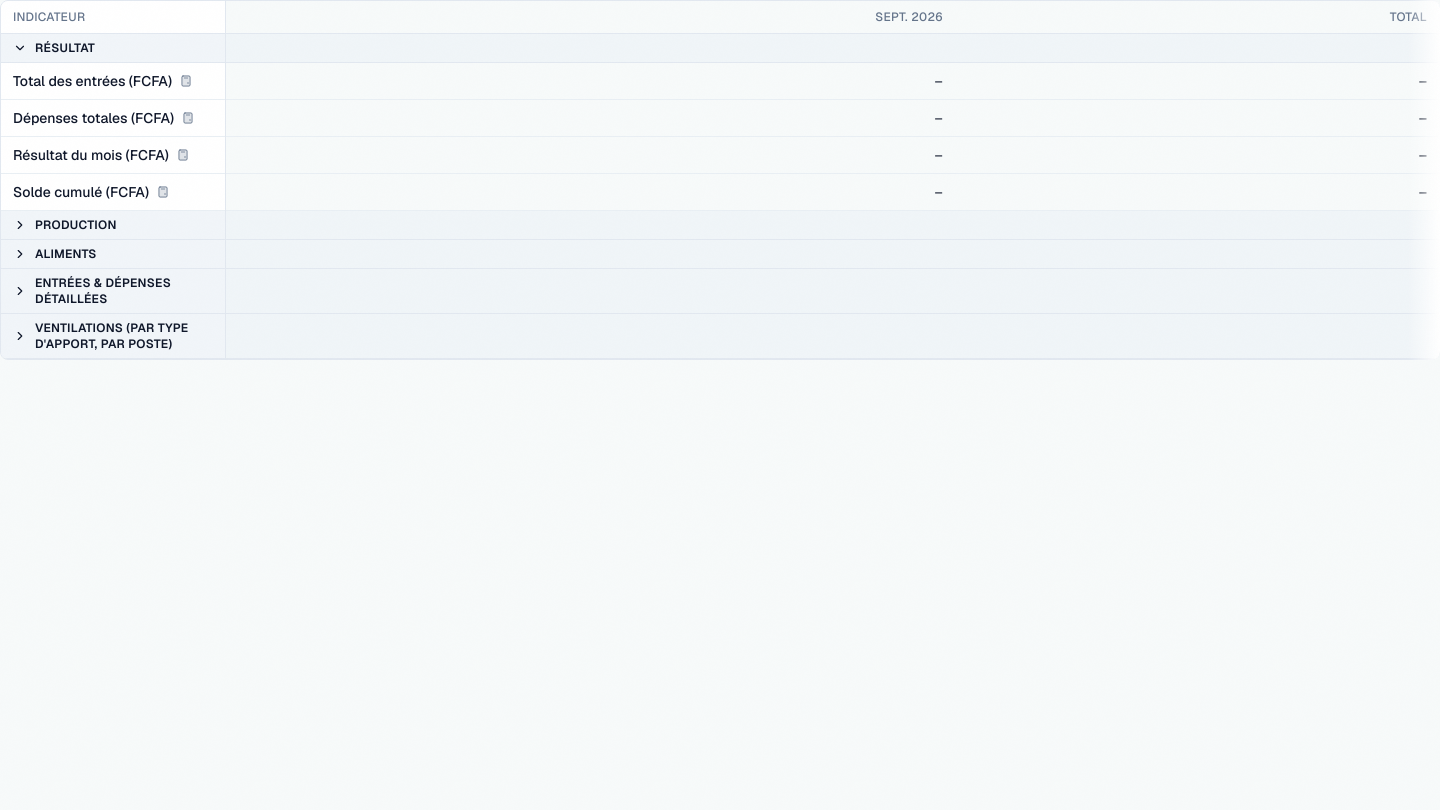
Test case: PrevisionsMensuellesTab — formats §7.4 : caractères Unicode EXACTS (vérification adverse @tester) › une valeur ≥ 1000 utilise U+202F (espace fine insécable) comme séparateur de milliers, jamais U+0020
The image size is (1440, 810).
Check: the table is shown, box [1, 1, 1439, 359]
Click the button "Aliments".
click(113, 254)  # box [13, 246, 212, 262]
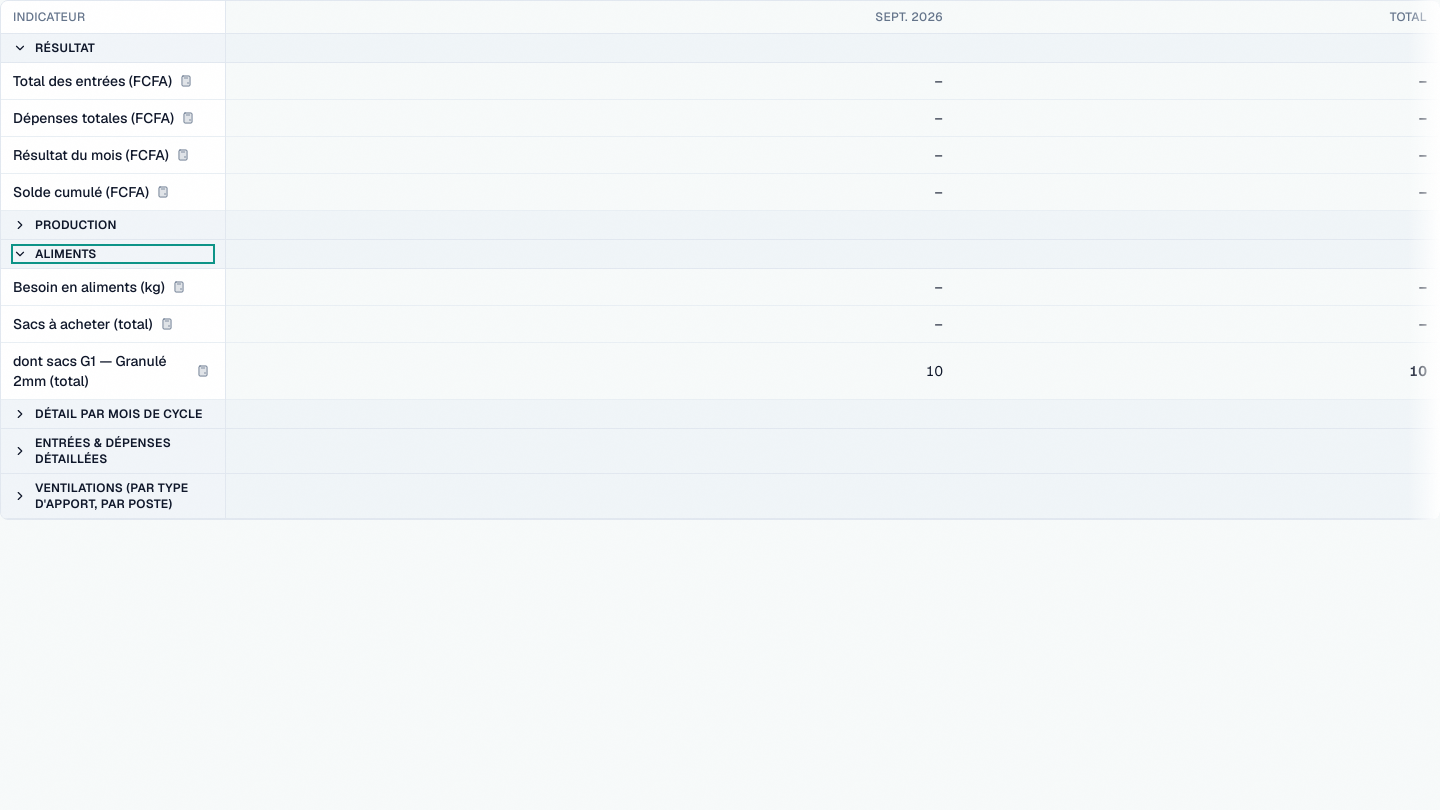
Click the button "Détail par mois de cycle".
click(113, 414)  # box [13, 406, 212, 422]
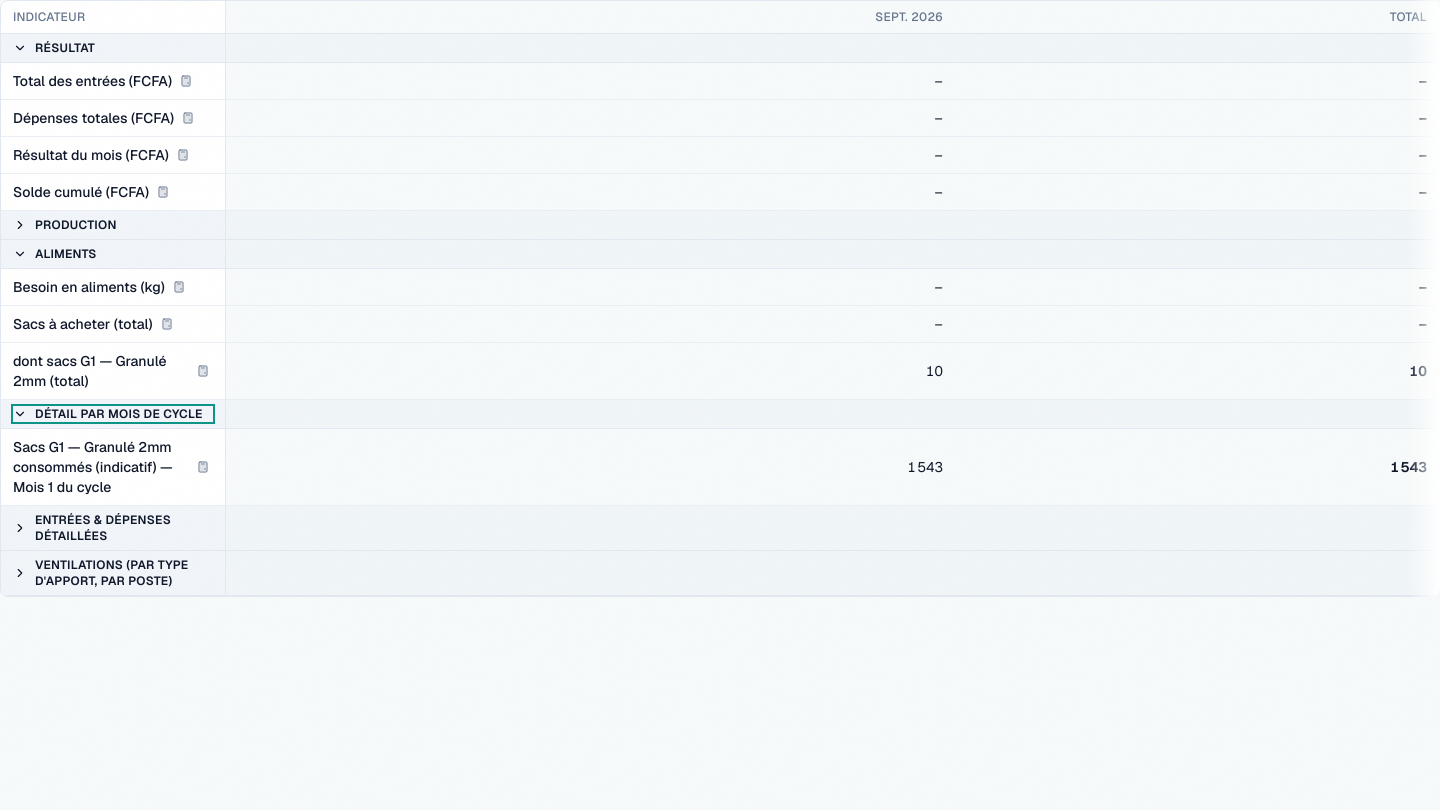
Check: the text "1.543" does not show ""
Check: the 1st text "1 543" is shown, box [225, 428, 955, 506]
